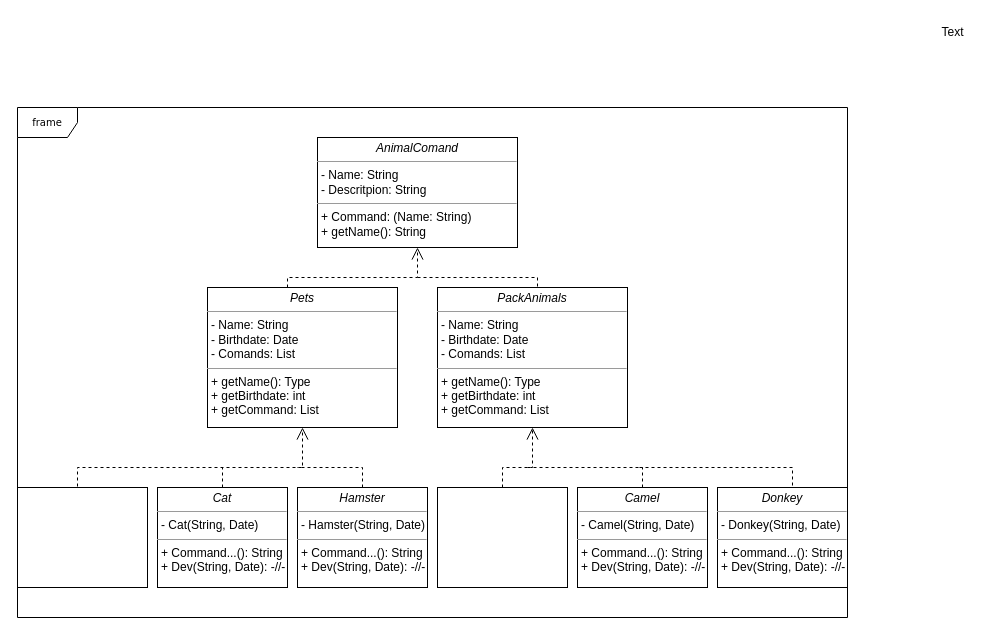
Some shapes in this 995 by 635 pixel diagram are drawn without their labels. Here are the shapes that lost their labels. From the top down, the centre of each, then its label:
(82,537): Dog - Dog(String, Date) + Command...(): String + Dev(String, Date): -//-
(502,537): Horse - Horse(String, Date) + Command...(): String + Dev(String, Date): -//-
